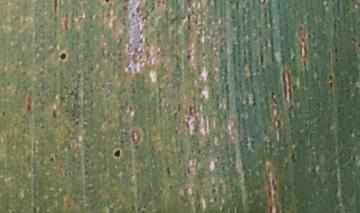tarspot: (53, 49, 72, 63), (109, 145, 124, 161), (326, 70, 336, 94), (163, 160, 173, 183), (50, 1, 60, 19), (47, 150, 58, 165), (101, 1, 115, 9)
